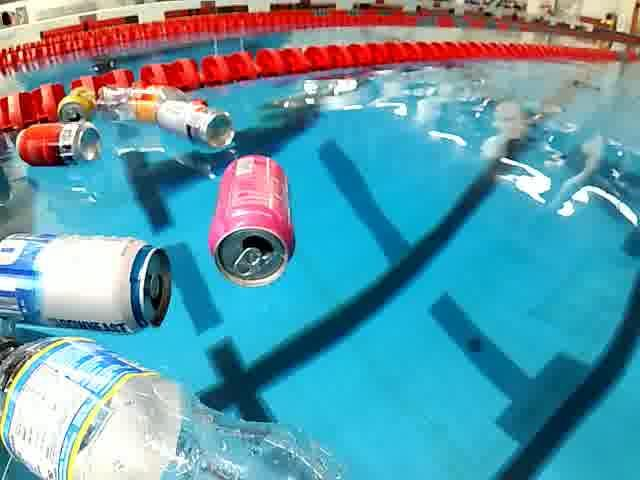Bottle: (2, 325, 358, 480)
Can: (0, 229, 181, 334), (200, 150, 298, 294), (148, 97, 234, 151), (8, 123, 106, 165)
